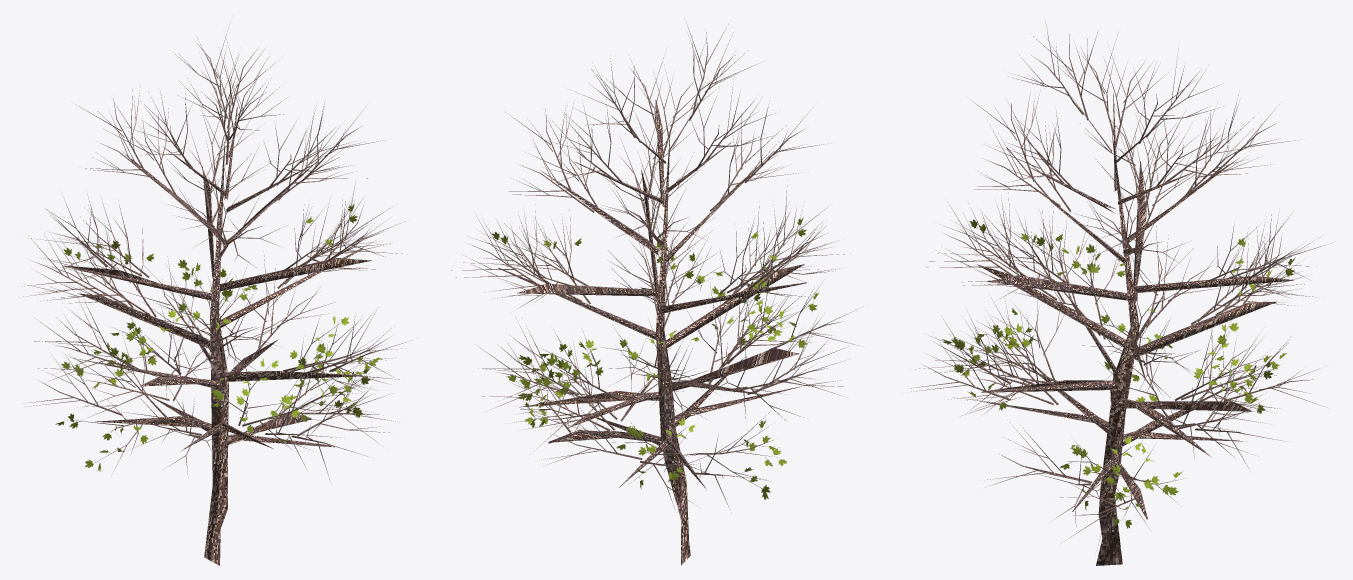
The model's file is tree_maple_lo.glb.
3 views of the same model, side by side, from view 1: azimuth 30°, elevation 25°; view 2: azimuth 150°, elevation 25°; view 3: azimuth 270°, elevation 25° (orthographic). The views are drawn at different scales.
Visible parts, largest first — view 1: m; view 2: m; view 3: m.
Part boxes in pixels (left/top/right/bottom): m: left=21, top=28, right=407, bottom=565; m: left=451, top=24, right=863, bottom=565; m: left=905, top=22, right=1330, bottom=565.
Bounding box in the file's own units: 0.7368 × 0.9921 × 0.7267.
Materials: 2 (2 with a texture image).
